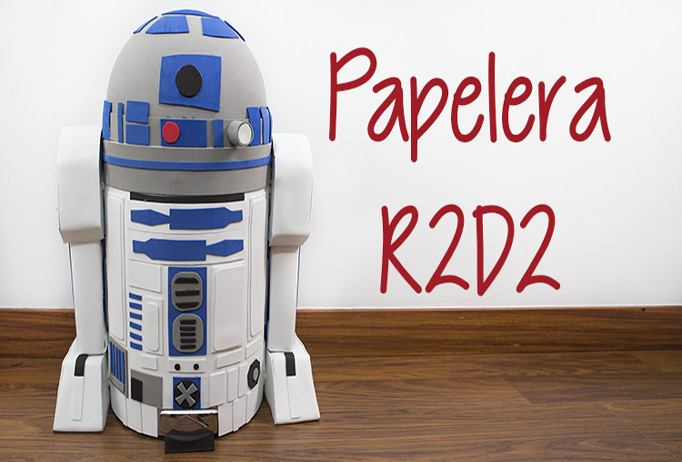r2d2: (57, 9, 319, 437)
